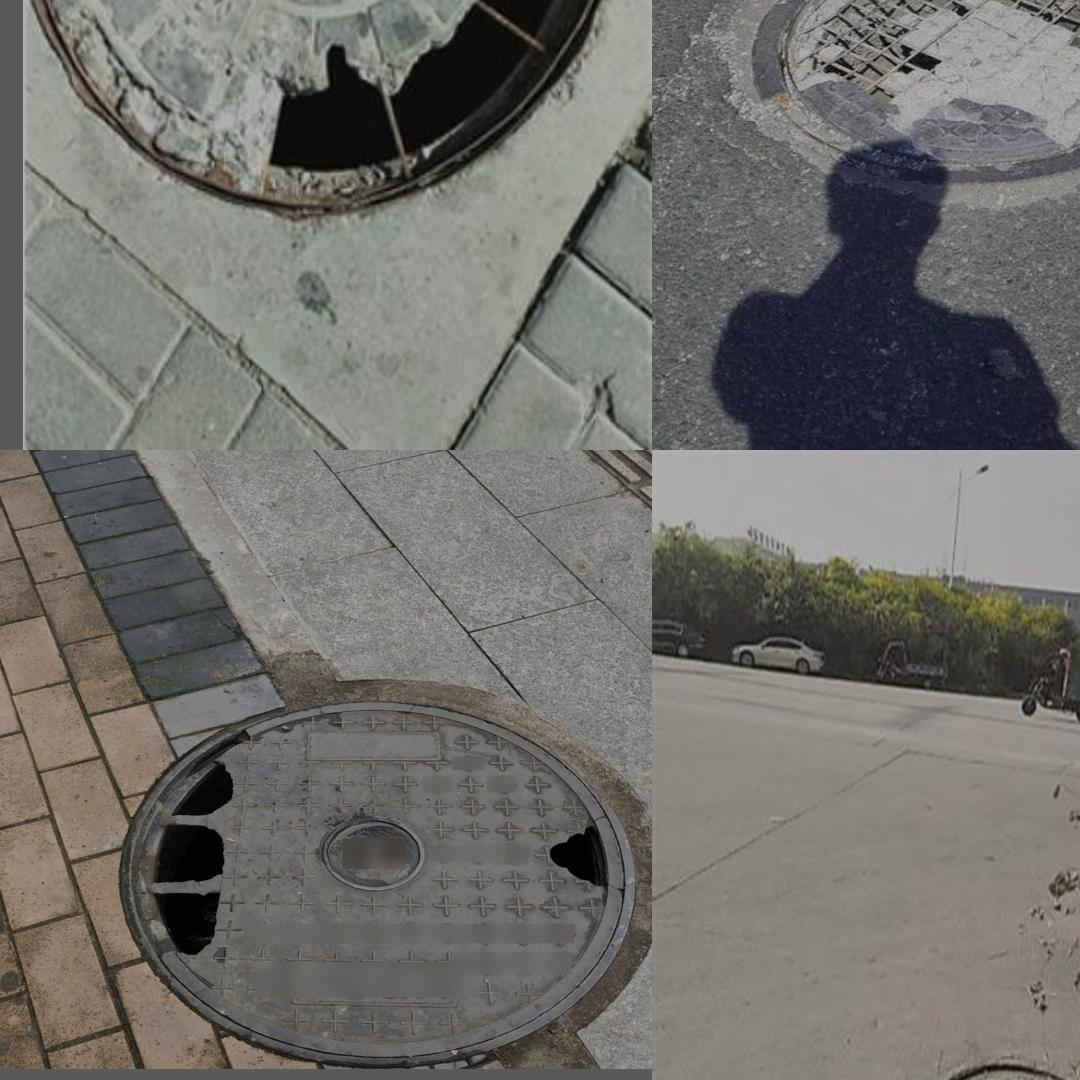broke: (134, 724, 626, 1055), (34, 0, 642, 195), (732, 0, 1080, 201), (907, 1027, 1080, 1080)
